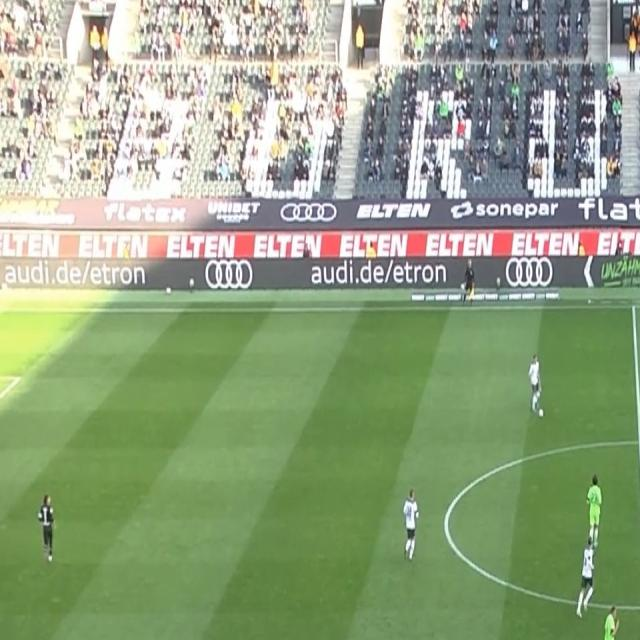ball: (538, 408, 544, 418)
